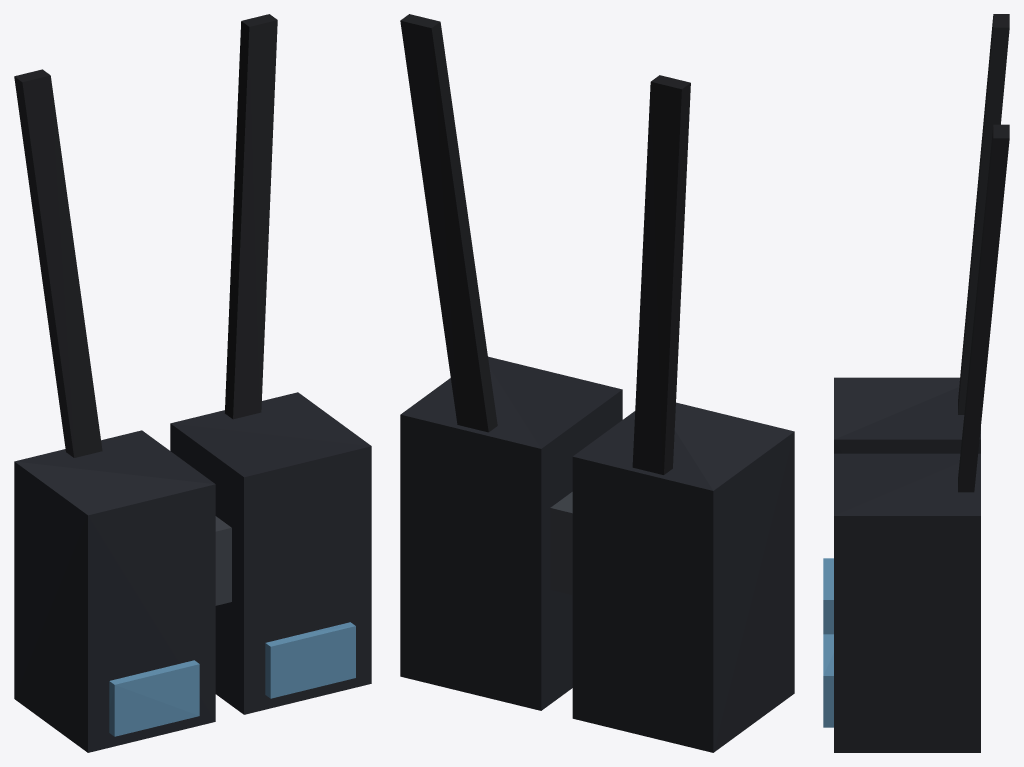
File: prismaticos.fbx
3 views of the same model, side by side, from view 1: azimuth 30°, elevation 25°; view 2: azimuth 150°, elevation 25°; view 3: azimuth 270°, elevation 25° (orthographic). The views are drawn at different scales.
Parts seen in each view (by area): view 1: prismaticos; view 2: prismaticos; view 3: prismaticos.
Boxes of the visible parts, x1,y1,x2,y2 form: prismaticos: (14,14,371,752); prismaticos: (400,14,794,752); prismaticos: (823,14,1009,752).
Bounding box in the file's own units: 0.1216 × 0.2493 × 0.0693.
1 material, 1 textured.
